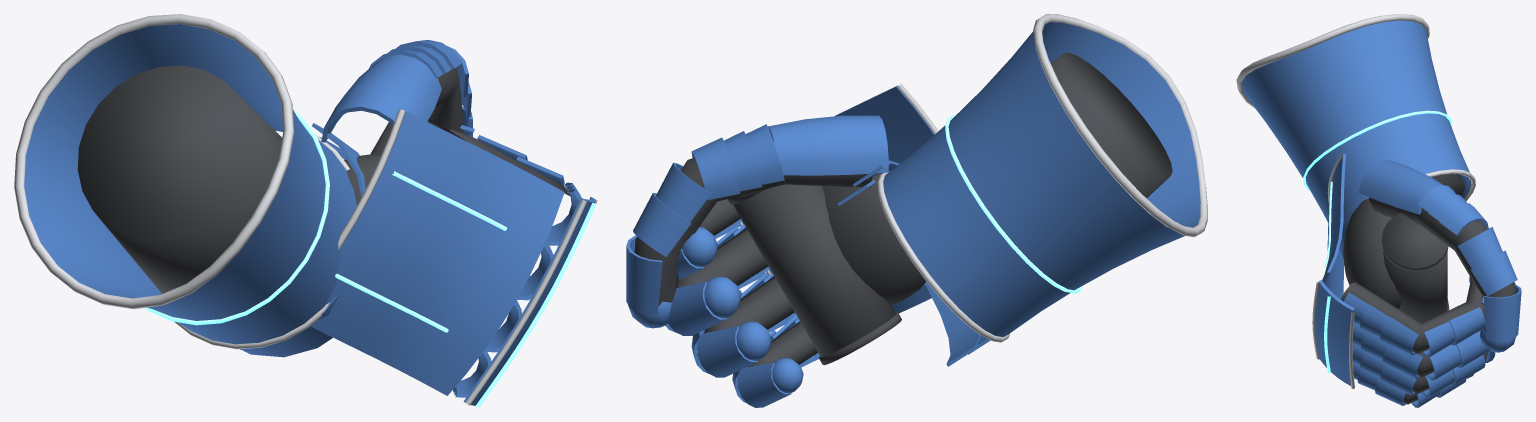
Rendered from P12_gauntlet_2.glb.
The picture shows the model from 3 angles, left to right: view 1: azimuth 30°, elevation 25°; view 2: azimuth 150°, elevation 25°; view 3: azimuth 270°, elevation 25°; orthographic projection. The views are drawn at different scales.
Visible parts, largest first — view 1: gauntlet_2; view 2: gauntlet_2; view 3: gauntlet_2.
Part boxes in pixels (box(x1,y1,x2,y2)): gauntlet_2: box(14, 14, 597, 407); gauntlet_2: box(626, 14, 1207, 407); gauntlet_2: box(1236, 14, 1521, 407).
Size of the model in its own units: 0.2149 by 0.1634 by 0.1416.
